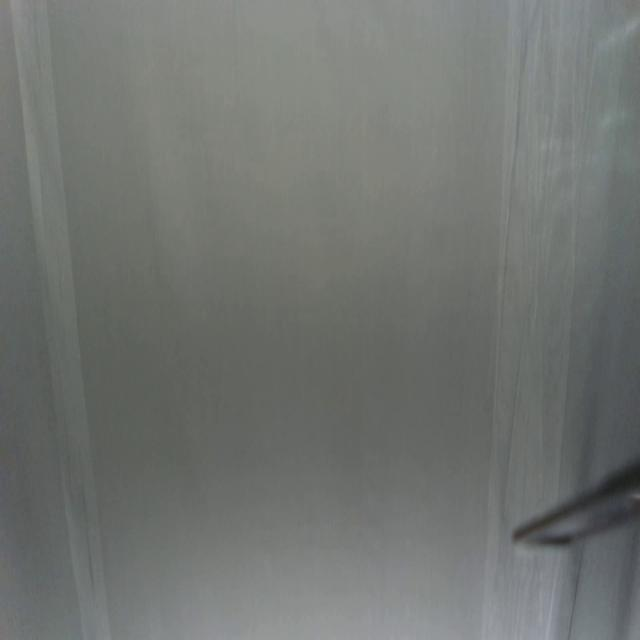crease: (9, 1, 111, 640), (494, 0, 586, 507), (566, 546, 587, 640)
